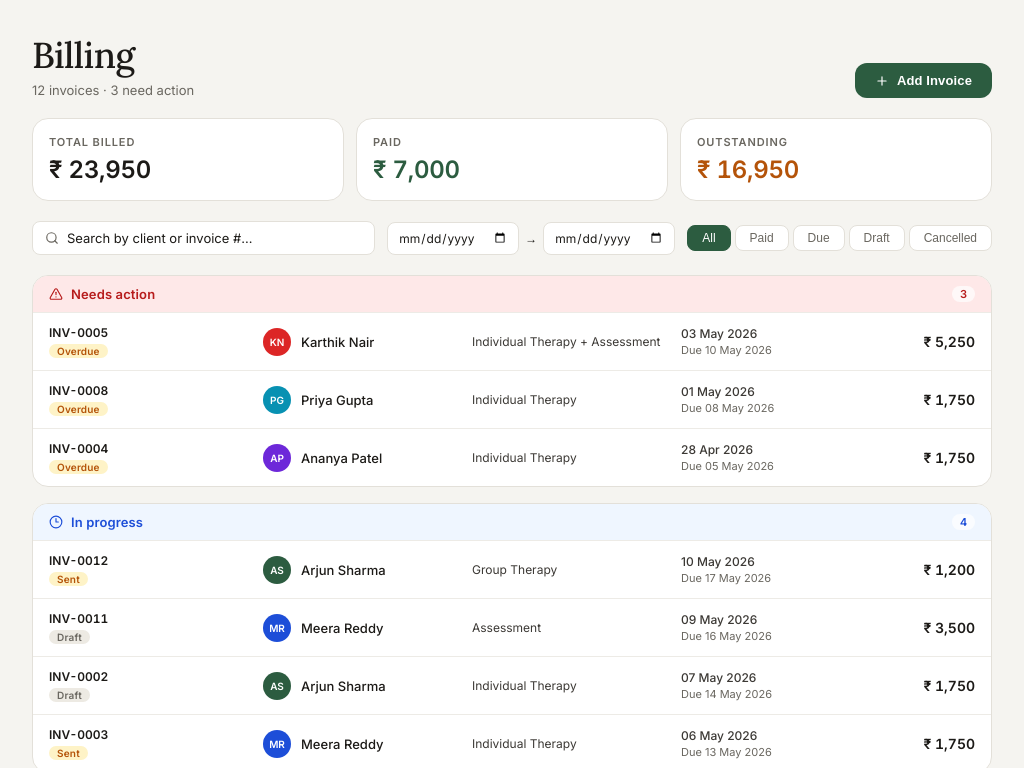
Scenario: <Billing> page › Add Invoice button opens the AddInvoiceModal
Click the button "Add Invoice". click: {"x": 923, "y": 80}
box: [855,63,992,98]
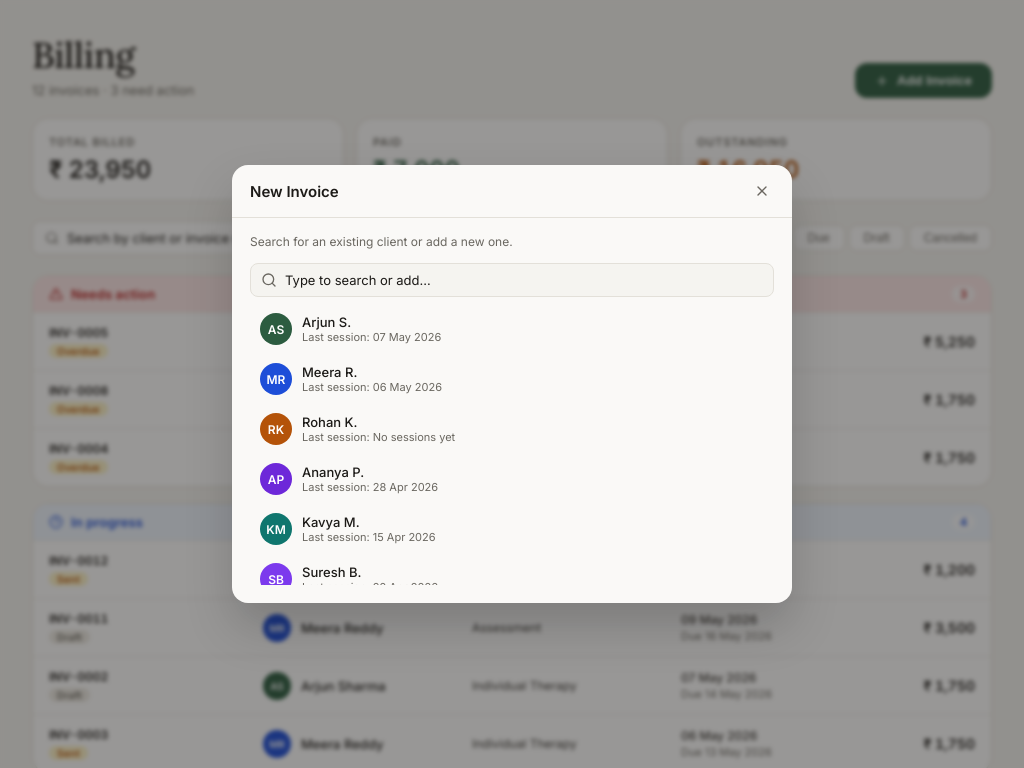
Check: the element with class "aim-panel" is shown, box [232,165,792,603]
Check: the text "New Invoice" is shown, box [250,182,339,200]
